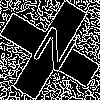N: (25, 25, 80, 82)
